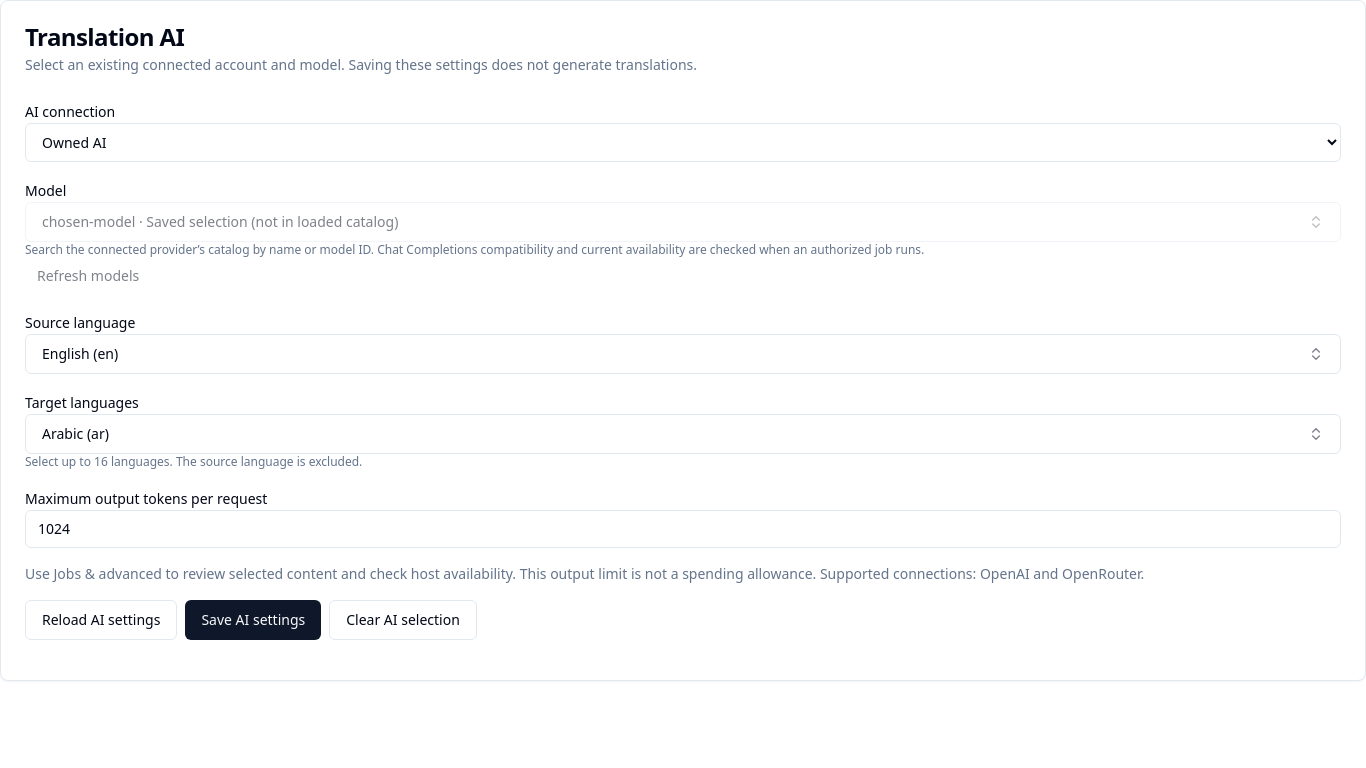
Test: Translation AI settings › clears selection without generating
The image size is (1366, 768).
What coordinates should you click on to do the following:
click the button "Clear AI selection"
I would click on:
 (403, 620)
Its box is [329, 600, 477, 640].
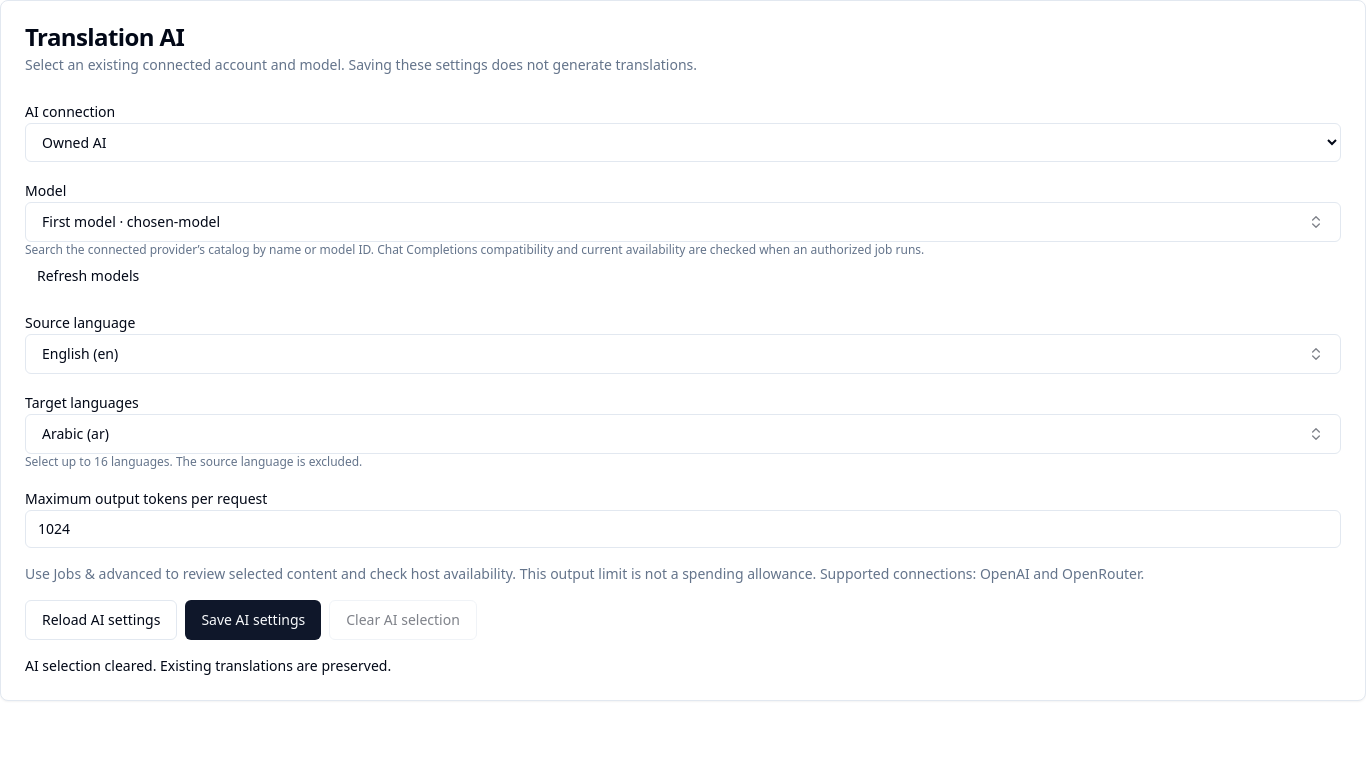
Expected: the text "AI selection cleared. Existing translations are preserved." is shown, [25, 656, 391, 675]
